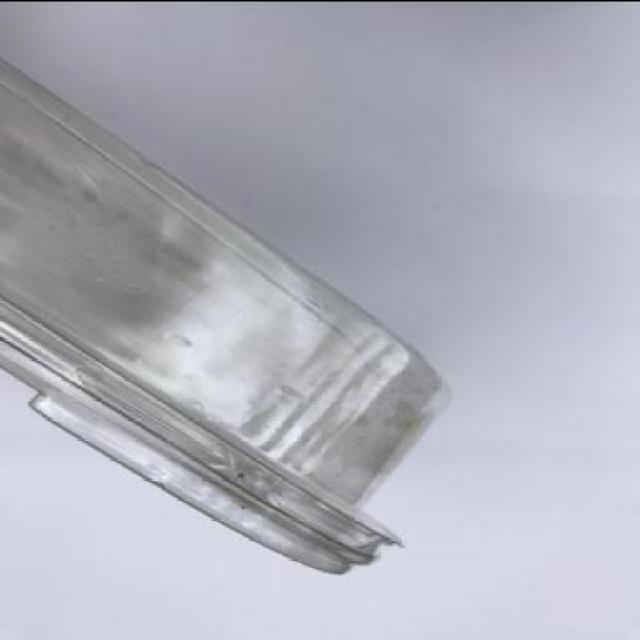PLASTIC: (1, 58, 454, 574)
